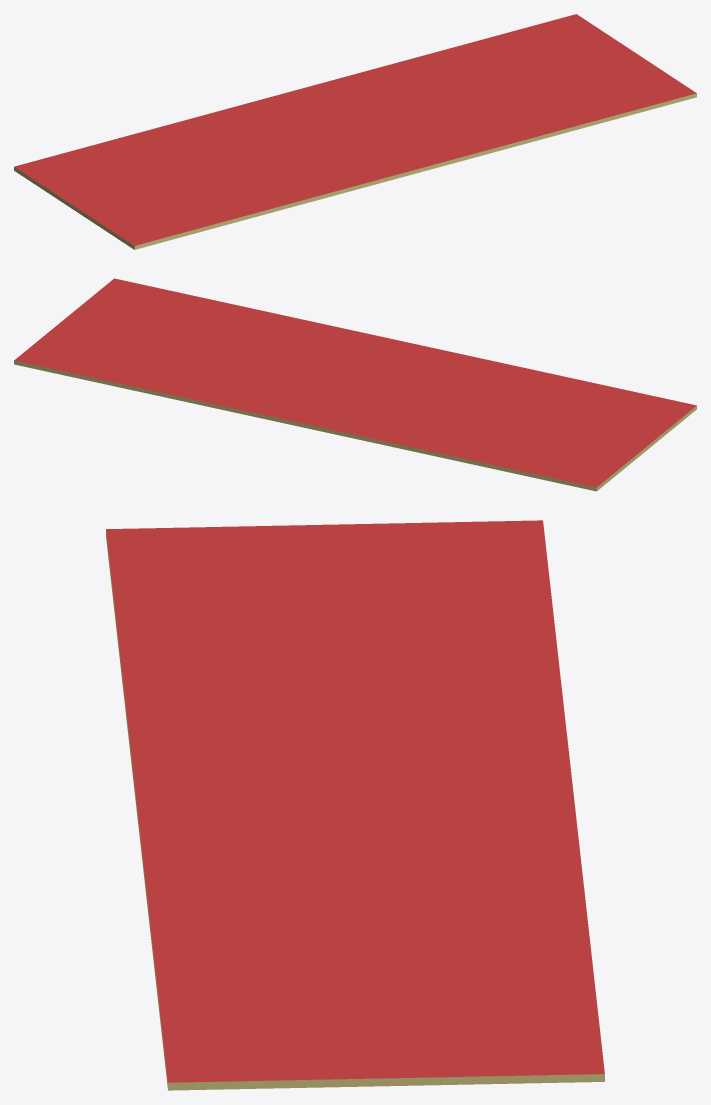
3 renders of one model, top to bottom at view 1: azimuth 30°, elevation 25°; view 2: azimuth 150°, elevation 25°; view 3: azimuth 270°, elevation 25°, orthographic. The views are drawn at different scales.
Size of the model in its own units: 15.33 by 5.75 by 0.1.
